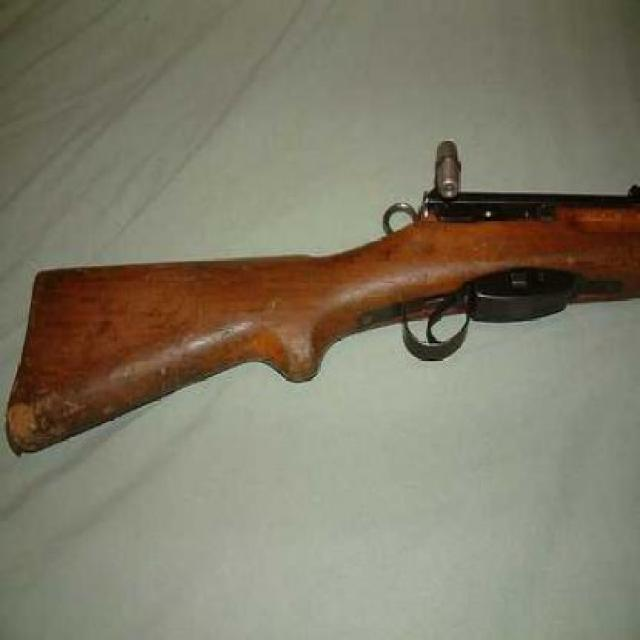weapon: (2, 128, 640, 424)
